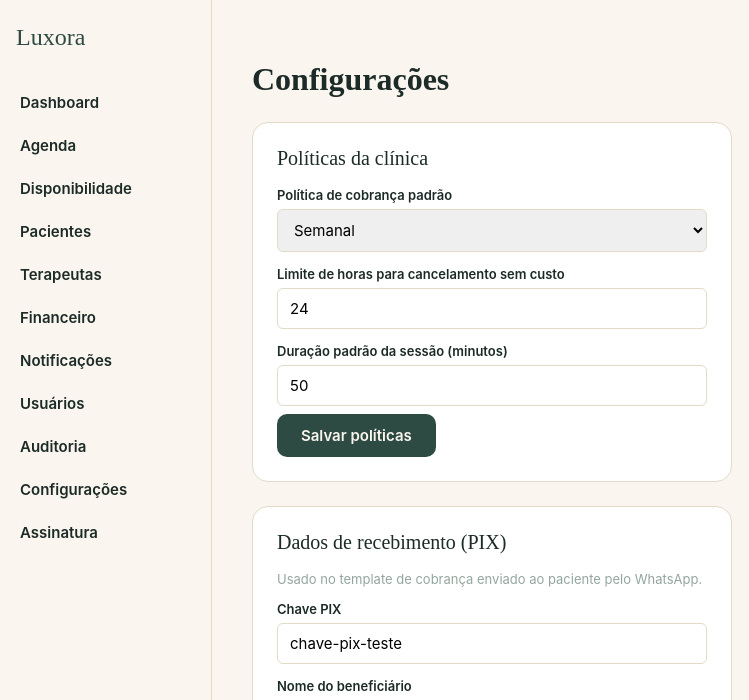
Test: ConfiguracoesPage — formulários › salvar políticas envia os valores como número e confirma na tela
The width and height of the screenshot is (749, 700).
Expected: the 1st field showing "chave-pix-teste" is shown, left=277, top=623, right=707, bottom=664
Select "Mensal" in the dropdown at (492, 230), box left=277, top=209, right=707, bottom=252
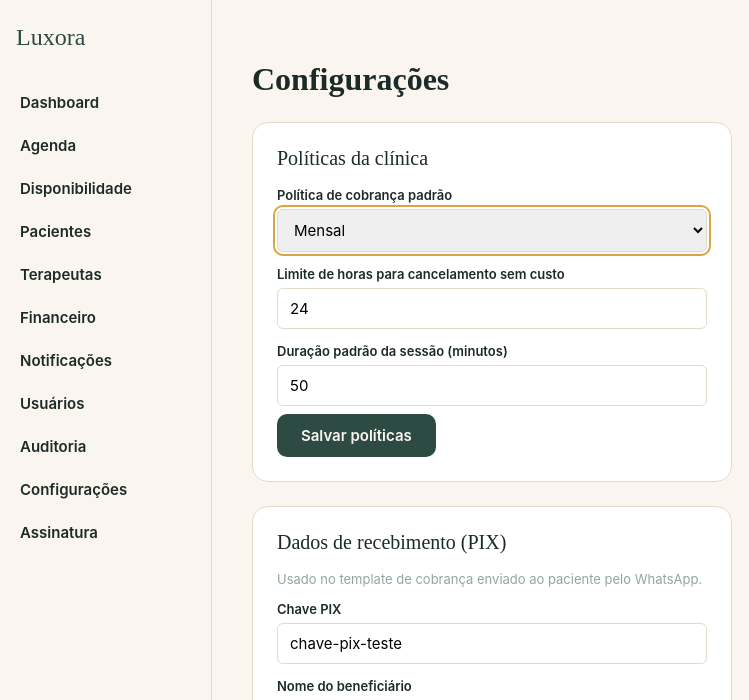
Replace the text in the 1st number field with "48" at (492, 308), box left=277, top=288, right=707, bottom=329
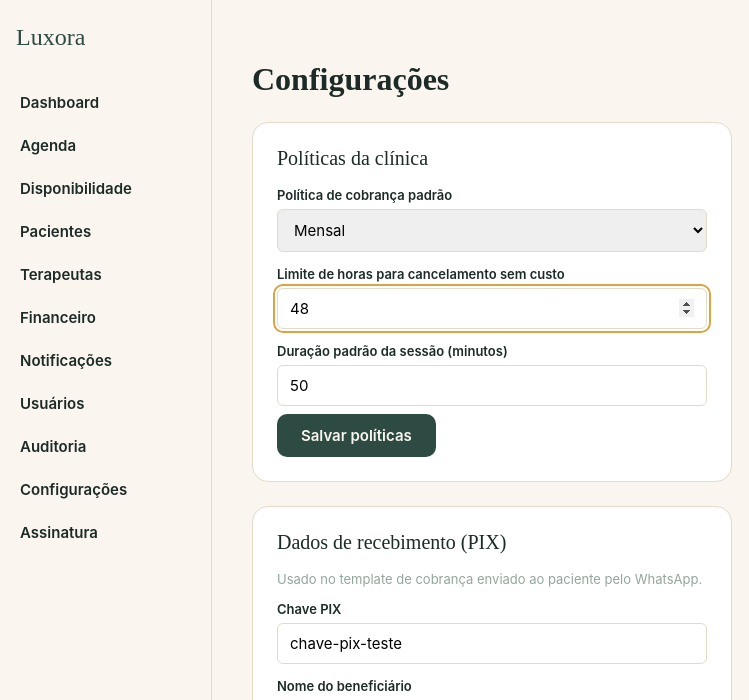
Replace the text in the 2nd number field with "60" at (492, 386), box left=277, top=365, right=707, bottom=406
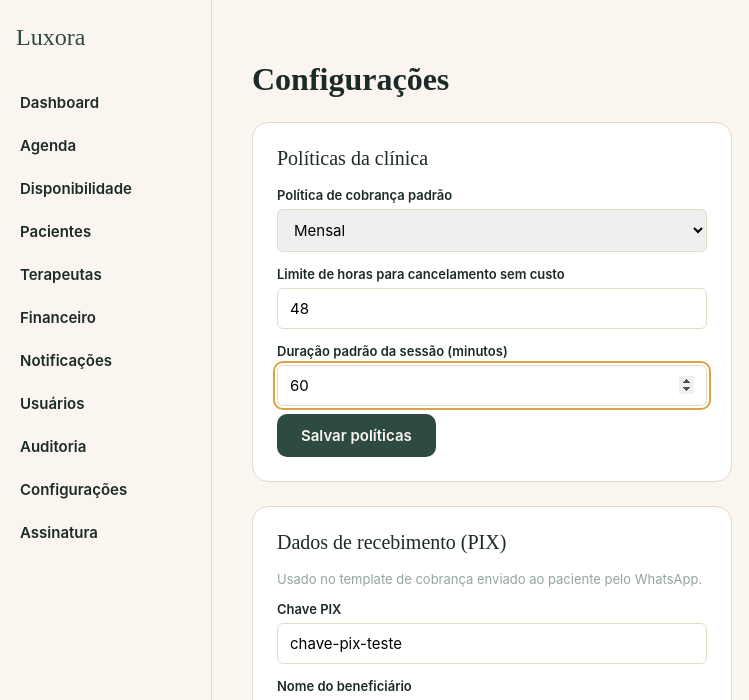
Click the button "Salvar políticas" at (356, 436), box left=277, top=414, right=436, bottom=457
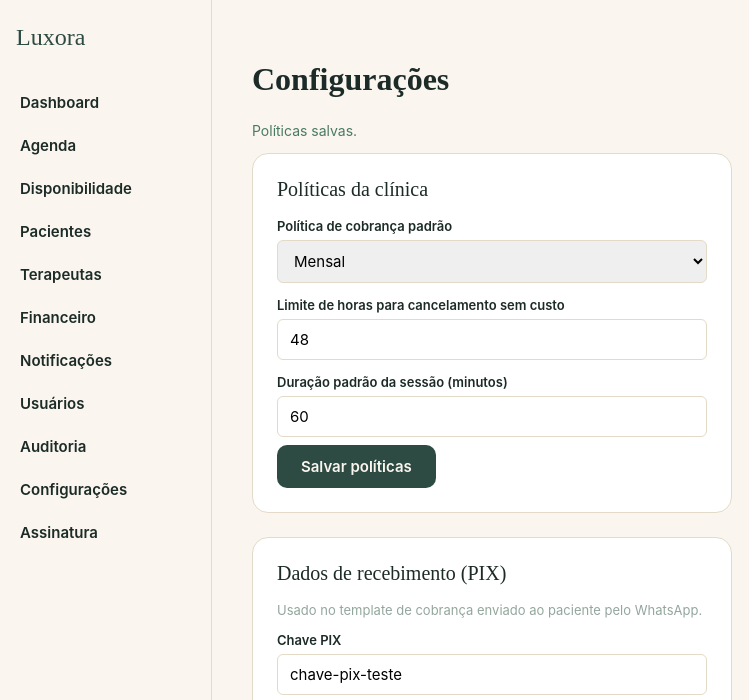
Expected: the message reads "Políticas salvas.", left=252, top=122, right=357, bottom=139
